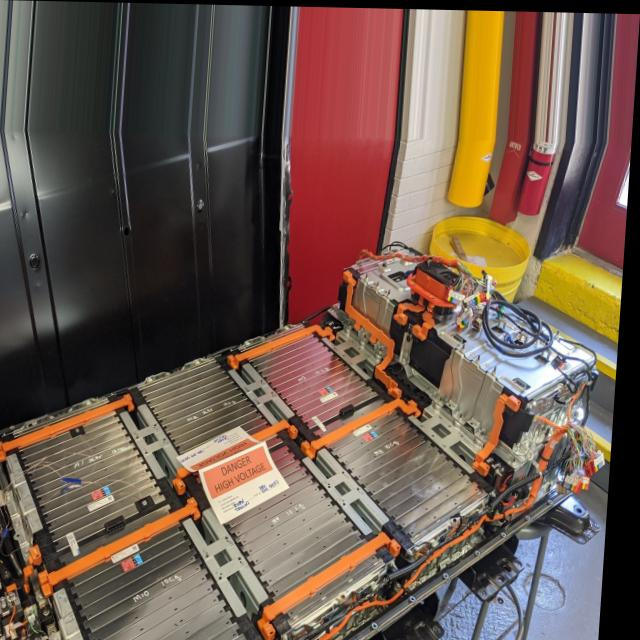Aluminum-frame: (192, 509, 279, 619), (309, 444, 398, 533), (299, 549, 390, 625), (126, 402, 190, 478), (418, 401, 488, 468), (444, 351, 502, 430), (503, 414, 554, 471), (329, 327, 382, 378)
Battery Module: (214, 435, 370, 593), (28, 408, 174, 551), (83, 523, 249, 639), (335, 409, 485, 537), (147, 357, 274, 464), (255, 331, 382, 426)
Bolt: (268, 528, 407, 640), (62, 588, 93, 640), (6, 591, 24, 605), (20, 517, 31, 528), (31, 546, 39, 558), (12, 491, 20, 501), (2, 463, 9, 472), (62, 636, 69, 640)
Bus-bar: (47, 496, 210, 594), (267, 528, 408, 638), (268, 530, 408, 640), (179, 416, 304, 492), (1, 394, 142, 461), (309, 394, 426, 457), (347, 269, 406, 393), (232, 321, 337, 369), (482, 391, 526, 472), (481, 393, 523, 475), (404, 333, 445, 397), (397, 298, 438, 339), (48, 605, 59, 616), (213, 484, 214, 485)
Cable: (323, 387, 586, 640), (485, 291, 561, 356), (450, 257, 500, 320)
Nut: (381, 344, 391, 355), (289, 631, 299, 640), (351, 318, 358, 327), (368, 332, 373, 340)
Screw: (496, 361, 505, 375), (478, 349, 487, 363), (462, 340, 472, 352), (376, 277, 386, 289), (388, 287, 399, 296), (442, 391, 451, 402), (367, 268, 374, 280)
